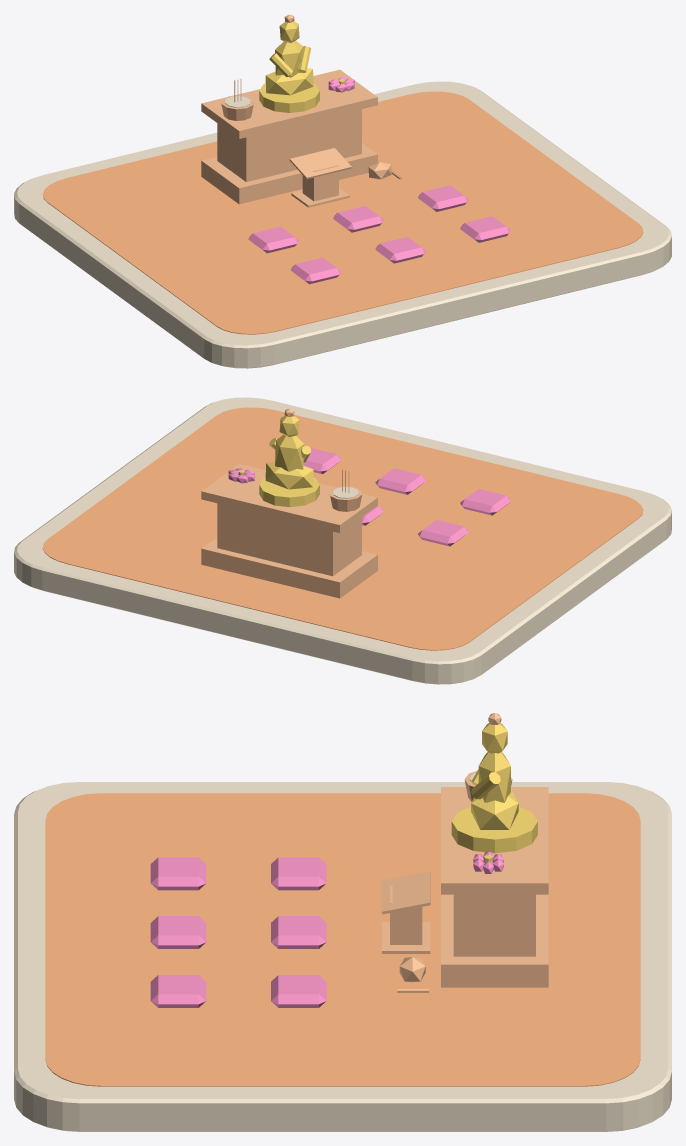
The picture shows the model from 3 angles, top to bottom: view 1: azimuth 30°, elevation 25°; view 2: azimuth 150°, elevation 25°; view 3: azimuth 270°, elevation 25°; orthographic projection. The views are drawn at different scales.
Visible parts, largest first — view 1: COM-02 Floor Surface, COM-01 Rounded Base Direct, Altar, Top, Base, Reading top, Lotus base, Folded legs, Body, Meditation cushion, Meditation cushion.005, Meditation cushion.001 (+4 smaller); view 2: COM-02 Floor Surface, COM-01 Rounded Base Direct, Altar, Top, Base, Lotus base, Folded legs, Robe torso, Meditation cushion.004, Meditation cushion, Meditation cushion.003, Meditation cushion.005 (+1 smaller); view 3: COM-02 Floor Surface, COM-01 Rounded Base Direct, Top, Altar, Base, Lotus base, Meditation cushion.003, Meditation cushion, Meditation cushion.004, Meditation cushion.005, Meditation cushion.001, Meditation cushion.002 (+6 smaller).
Part boxes in pixels (x1,y1,x2,y2): COM-02 Floor Surface: (42,91,643,334); COM-01 Rounded Base Direct: (14,81,671,368); Altar: (217,109,361,181); Top: (201,69,377,138); Base: (201,143,377,204); Reading top: (289,148,351,179); Lotus base: (259,83,319,112); Folded legs: (265,68,313,95); Body: (302,165,338,201); Meditation cushion: (248,226,299,253); Meditation cushion.005: (460,216,510,242); Meditation cushion.001: (333,206,383,232); COM-02 Floor Surface: (42,407,643,650); COM-01 Rounded Base Direct: (14,397,671,684); Altar: (217,503,361,576); Top: (201,463,377,532); Base: (201,537,377,598); Lotus base: (259,477,319,507); Folded legs: (265,462,313,489); Robe torso: (275,435,304,471); Meditation cushion.004: (375,468,426,494); Meditation cushion: (418,519,468,546); Meditation cushion.003: (460,489,510,515); Meditation cushion.005: (303,447,341,474); COM-02 Floor Surface: (45,793,640,1086); COM-01 Rounded Base Direct: (14,782,671,1131); Top: (441,787,548,894); Altar: (453,894,535,956); Base: (441,894,548,987); Lotus base: (451,807,537,853); Meditation cushion.003: (150,857,206,890); Meditation cushion: (271,857,326,890); Meditation cushion.004: (150,916,206,948); Meditation cushion.005: (150,975,206,1007); Meditation cushion.001: (271,916,326,948); Meditation cushion.002: (271,975,326,1007).
Bounding box in the file's own units: 6 × 2.27 × 5.2.
Materials: 1 (1 with a texture image).
